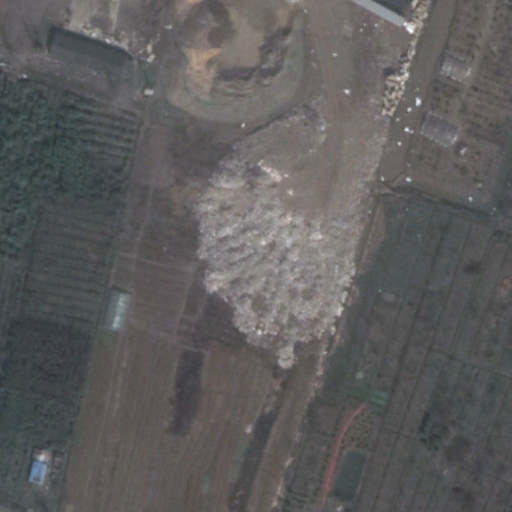msw: (200, 147, 354, 371)
